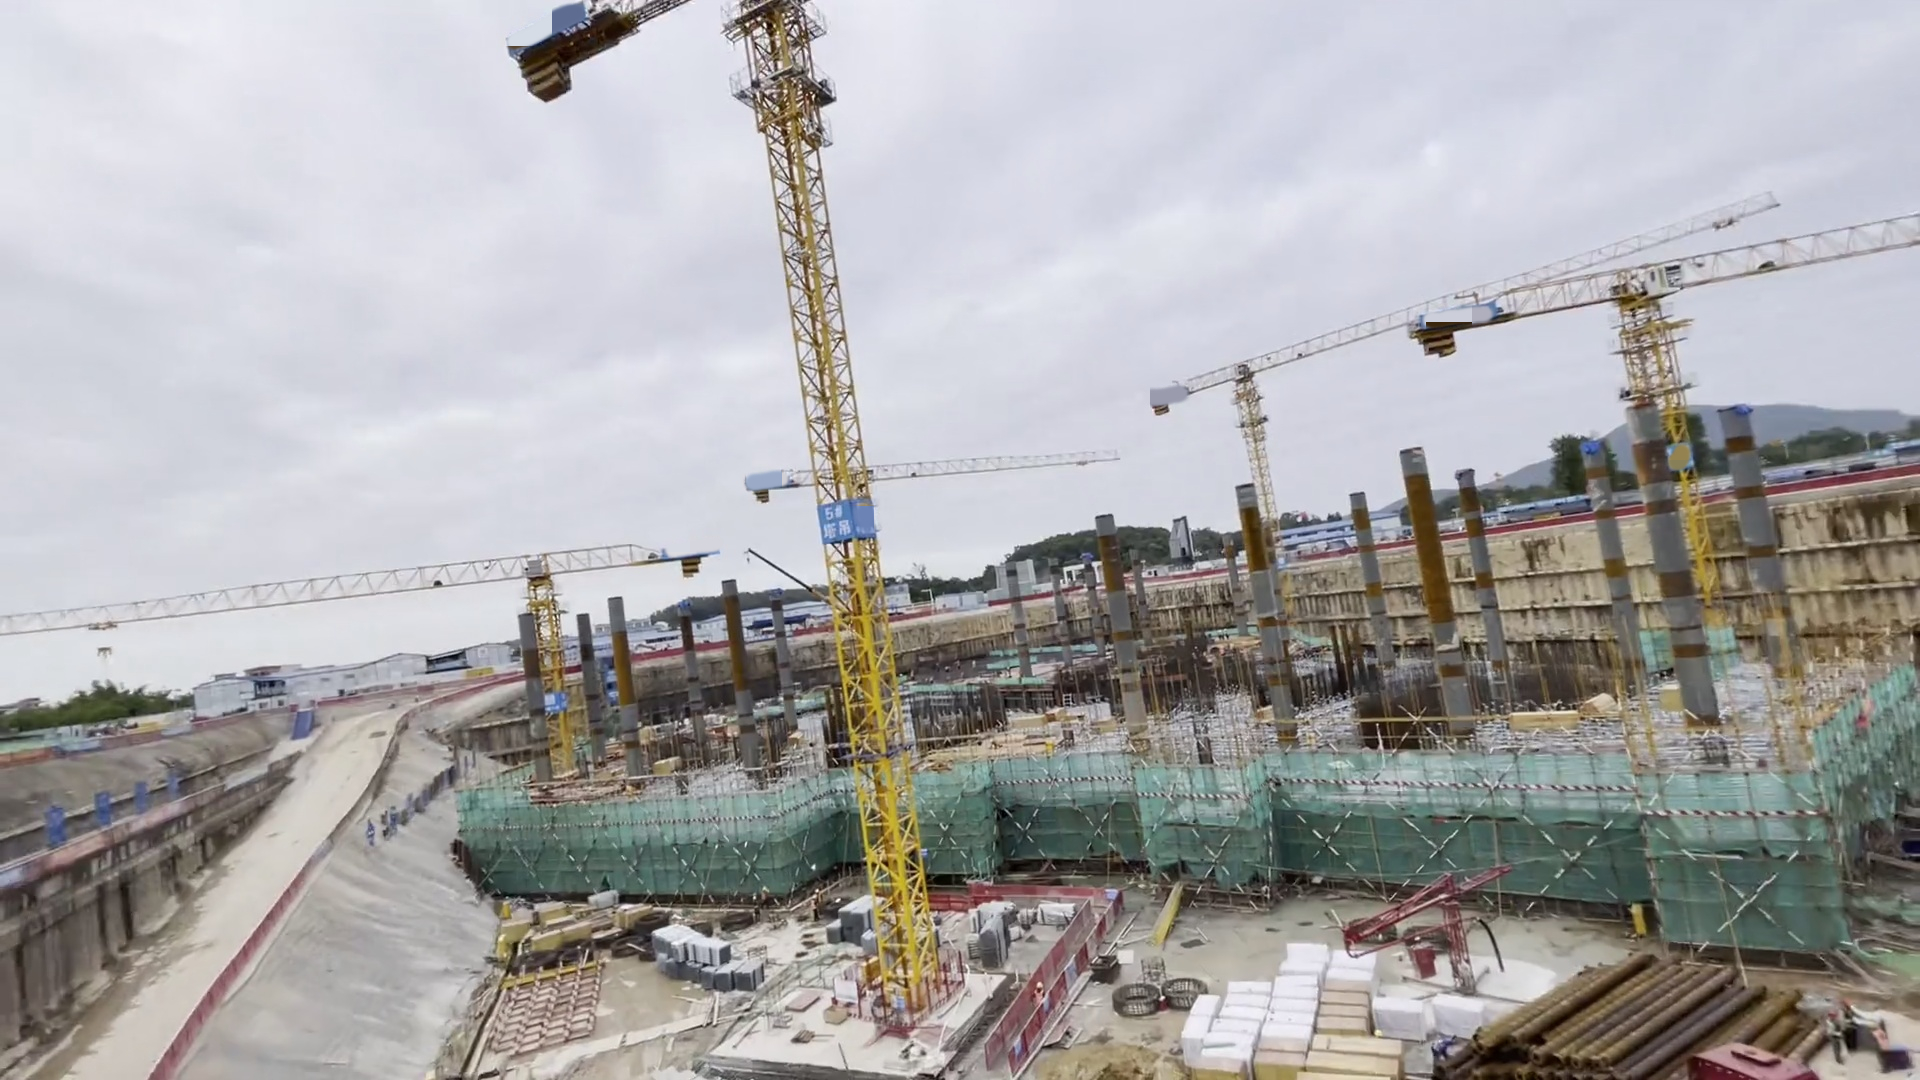helmet: (1035, 980, 1045, 988)
person: (1031, 982, 1048, 1017), (809, 896, 822, 923), (758, 885, 772, 909)
vest: (1034, 992, 1044, 1003)
